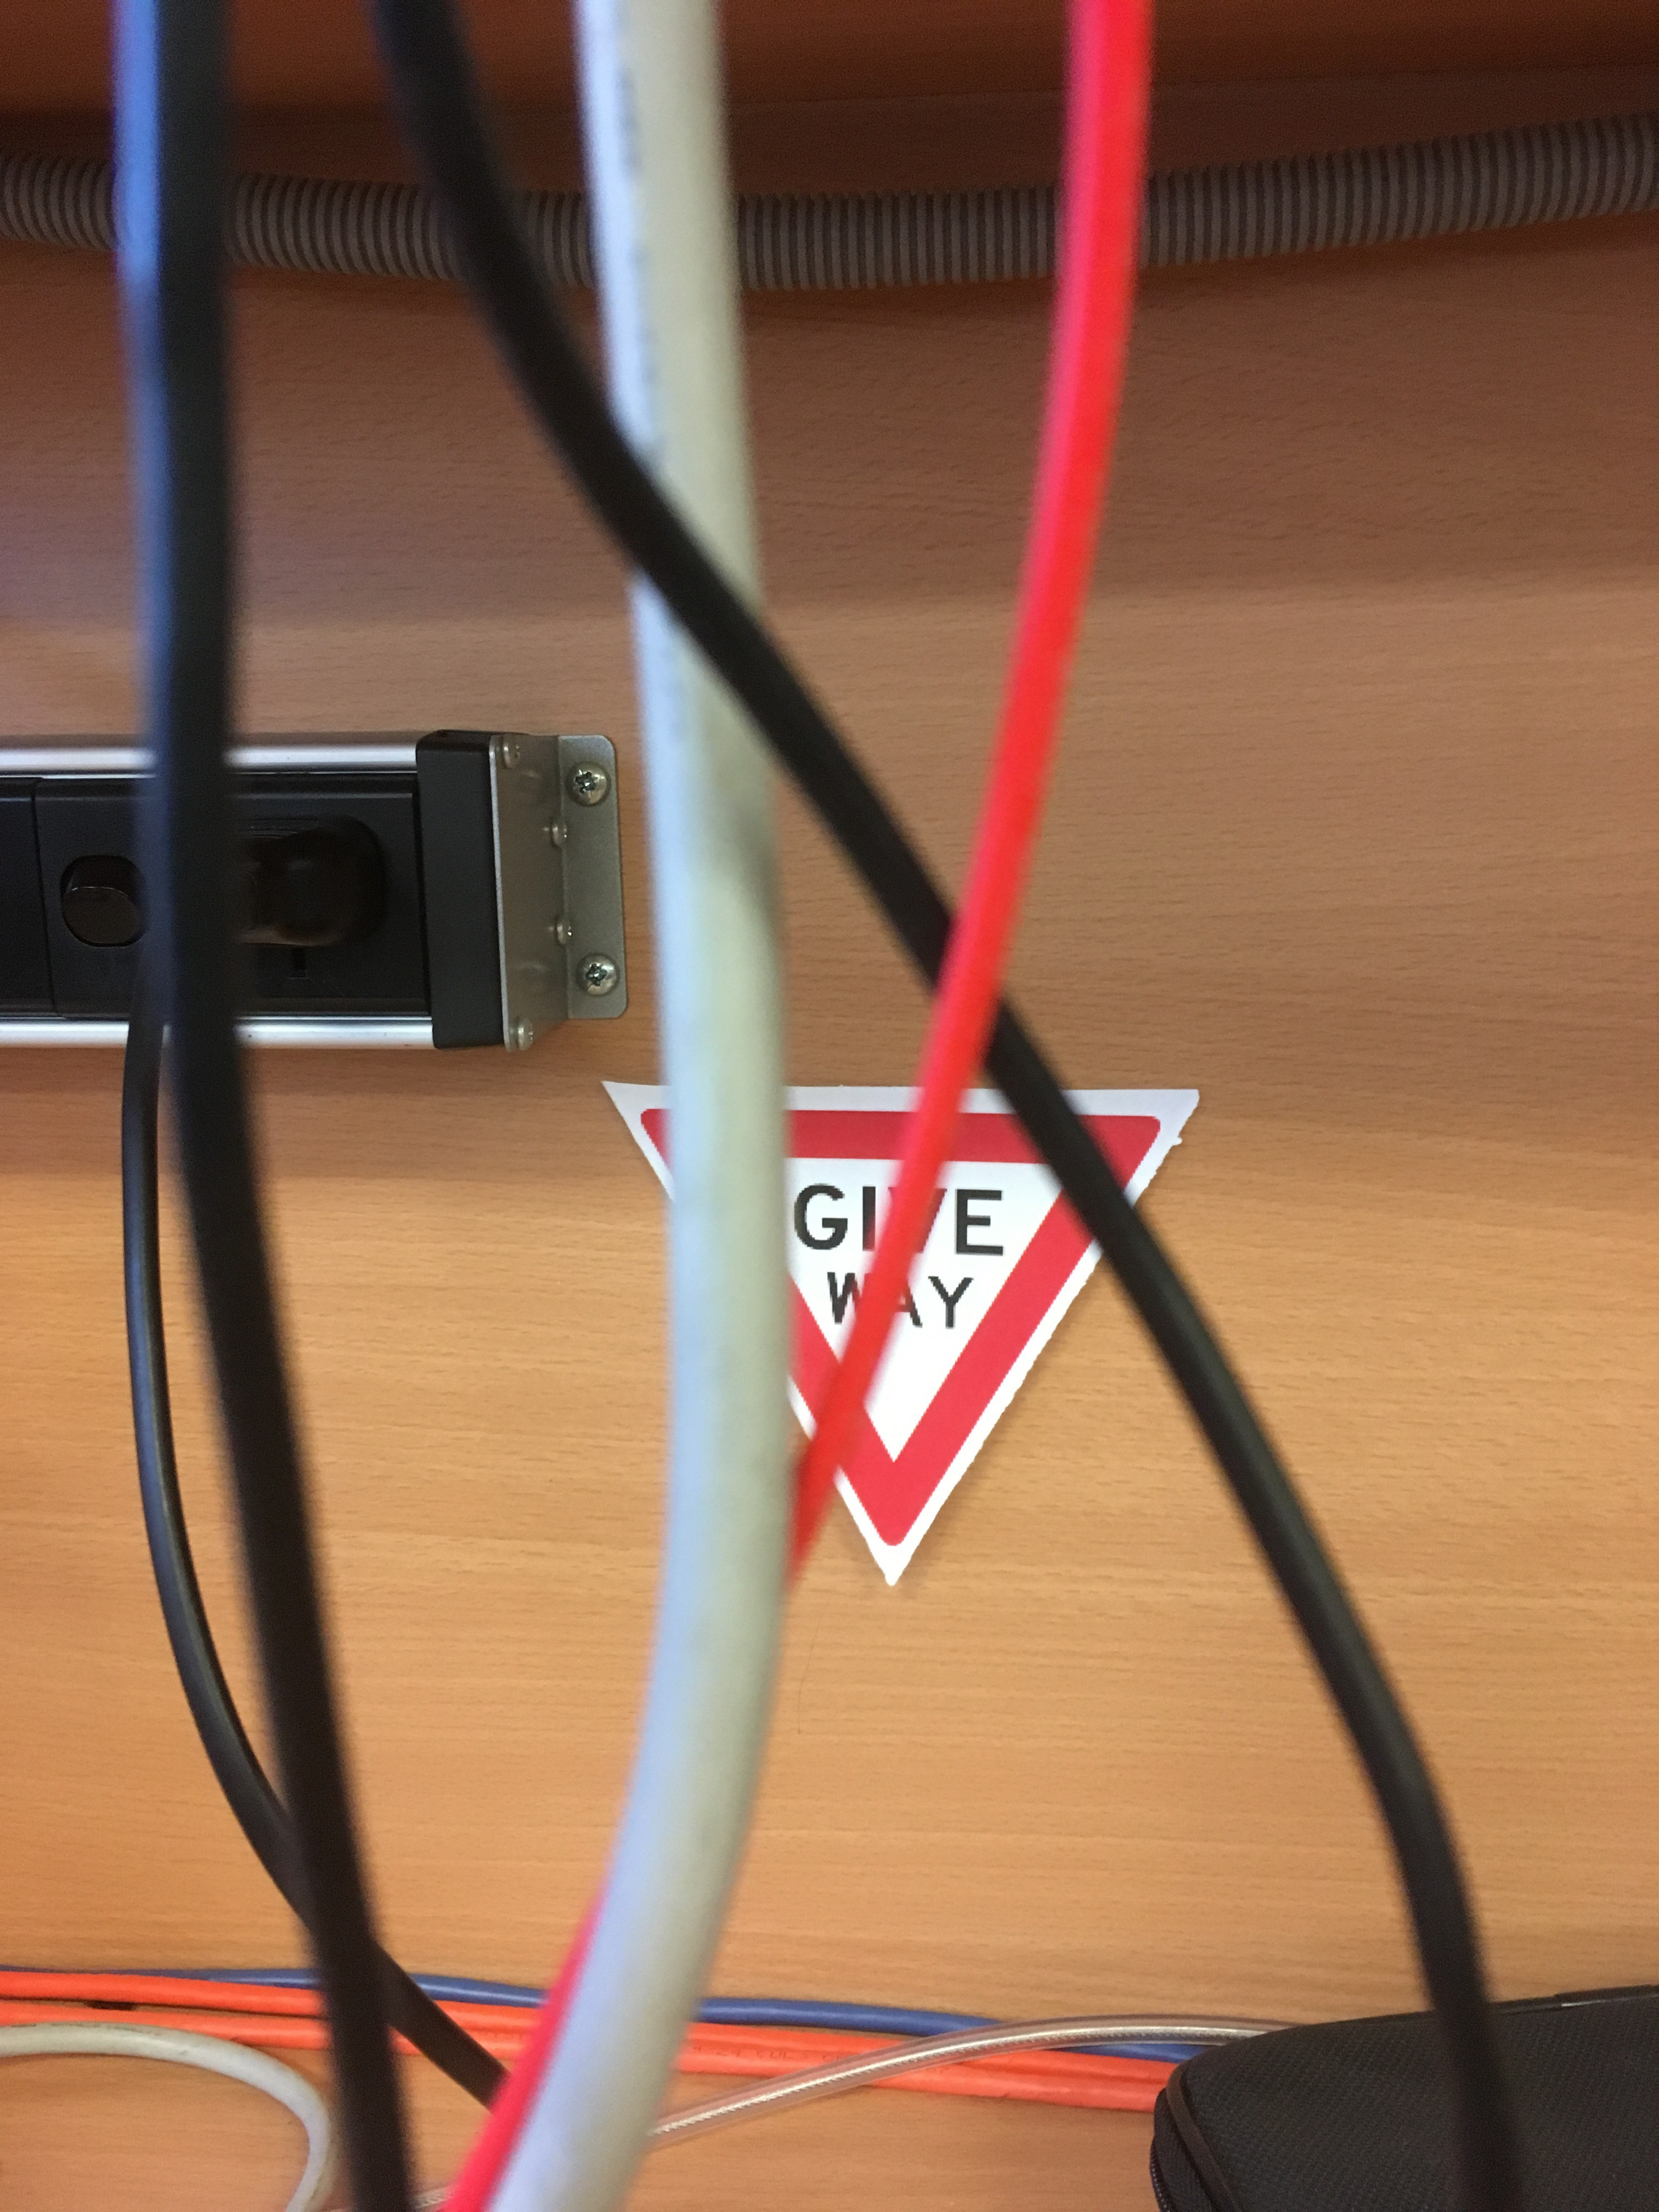giveway: (594, 1082, 1188, 1576), (641, 1108, 1162, 1533), (777, 1031, 1053, 1559), (751, 1115, 1162, 1451)
